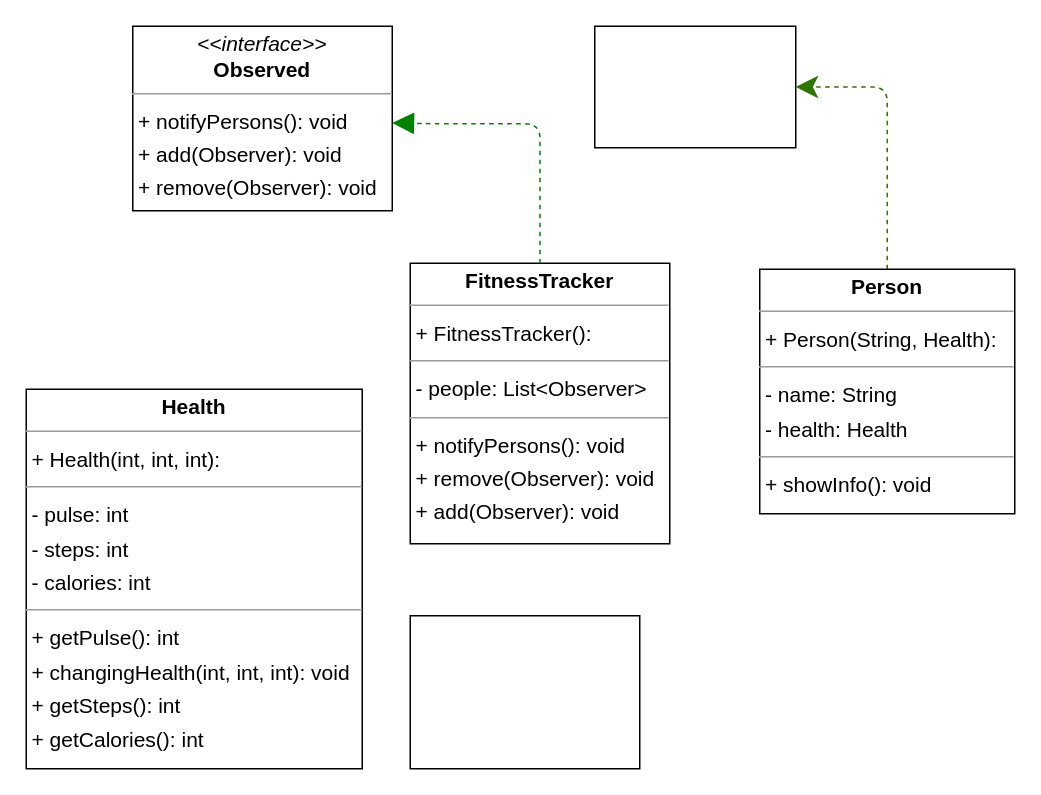
The diagram is 1041 pixels wide and 795 high, and some of its shapes have lost their labels. Here are the shapes that lost their labels. From the top down, the centre of each, then its label:
At point (694, 86): "<<interface>> Observer + showInfo(): void".
At point (524, 691): "Main + Main(): + main(String[]): void".
